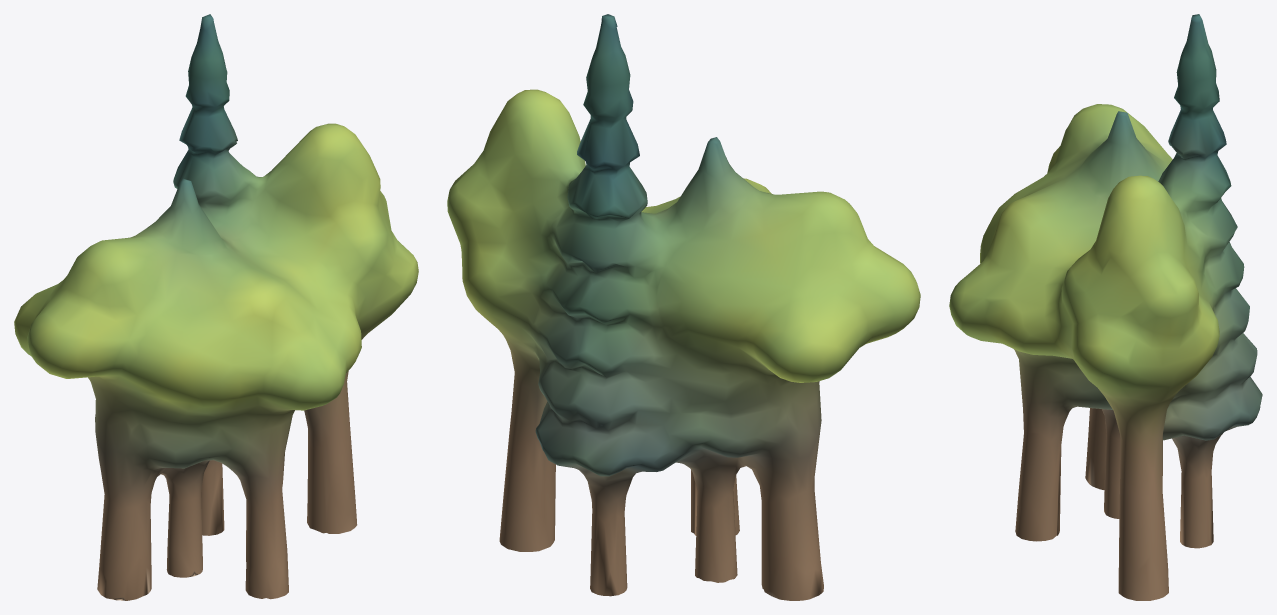
Rendered from cluster4.glb.
3 views of the same model, side by side, from view 1: azimuth 30°, elevation 25°; view 2: azimuth 150°, elevation 25°; view 3: azimuth 270°, elevation 25° (orthographic). The views are drawn at different scales.
Visible parts, largest first — view 1: body; view 2: body; view 3: body.
Part boxes in pixels (x1=…): body: x1=14, y1=14, x2=418, y2=600; body: x1=447, y1=14, x2=920, y2=600; body: x1=949, y1=14, x2=1262, y2=600.
Size of the model in its own units: 8.7 by 10.93 by 5.91.
